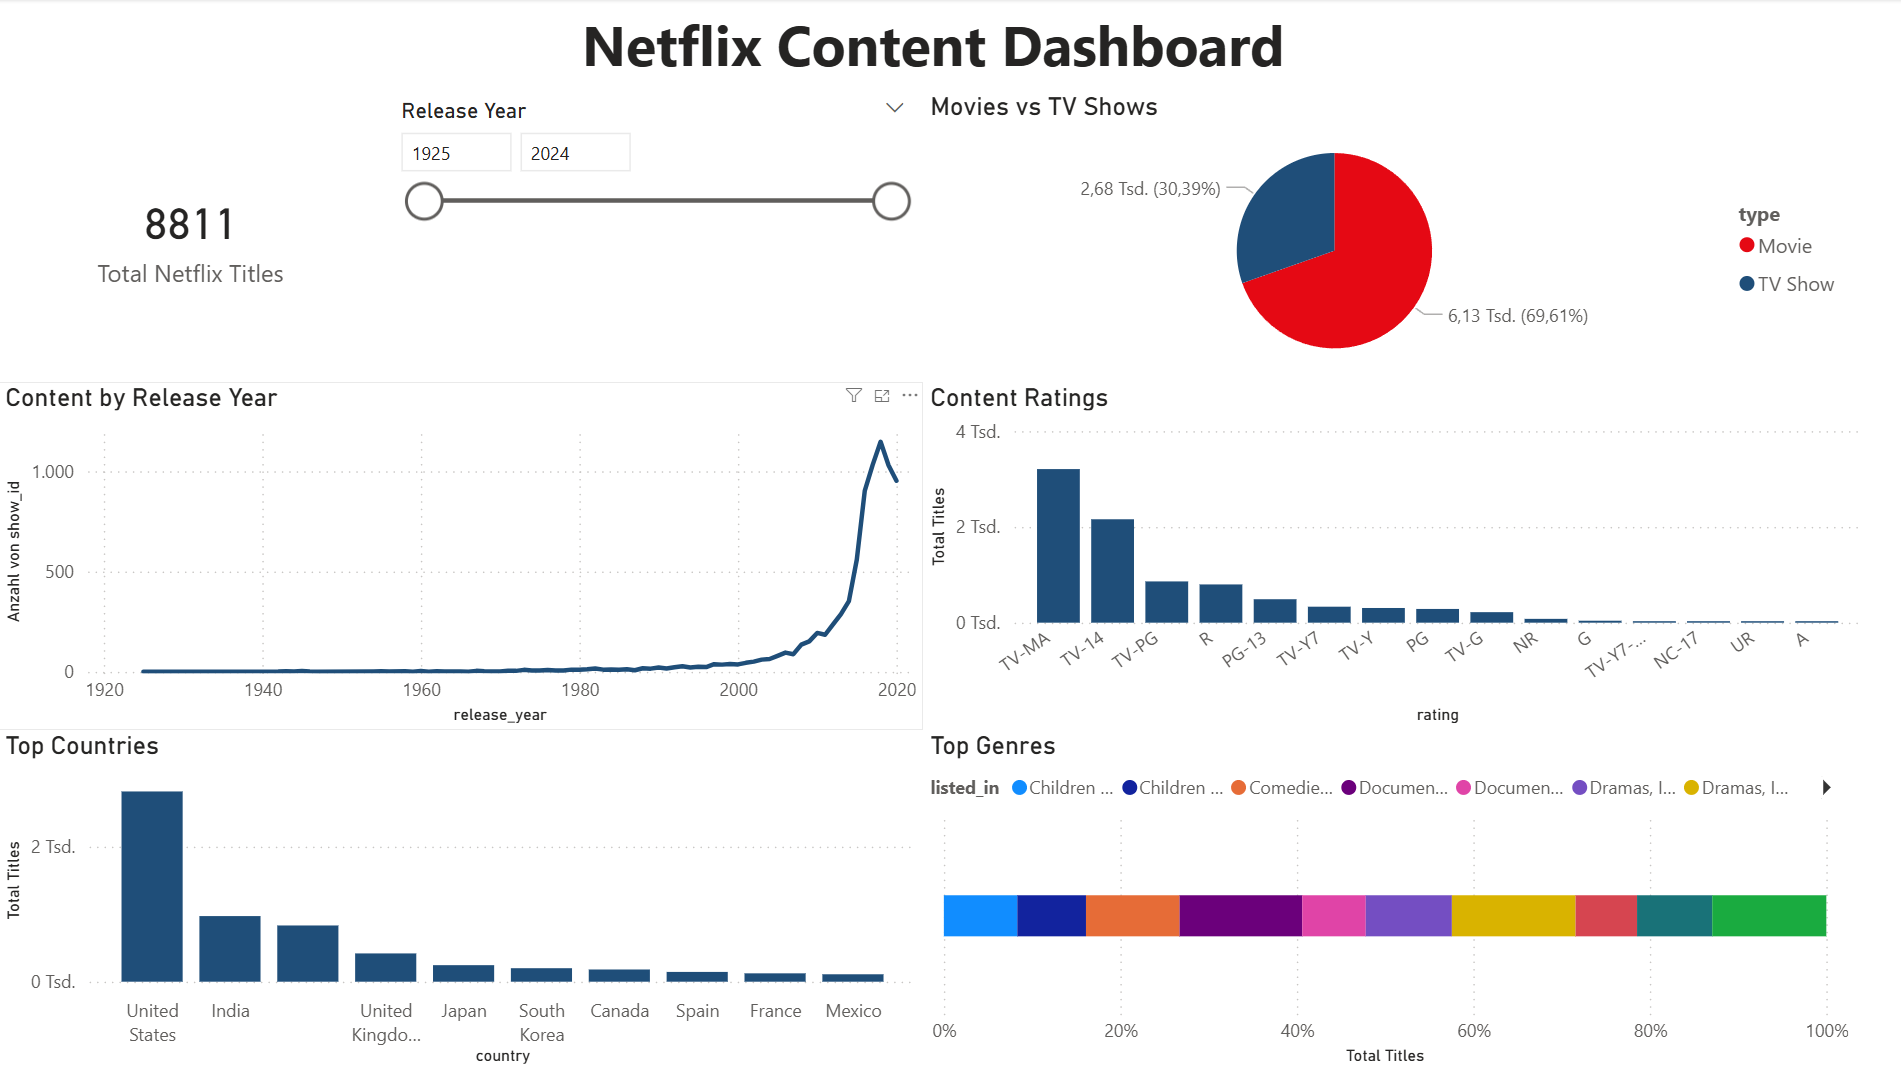

The dashboard page shown, as its layout file describes it:
{"tool":"powerbi","page":{"name":"Seite 1","canvas":[1280,720],"ordinal":0},"visuals":[{"type":"card","fields":{"Values":["Count(netflix_titles.show_id)"]},"box":[0,61.8,621.1,195.4],"z":0},{"type":"pieChart","title":"Movies vs TV Shows","fields":{"Category":["netflix_titles.type"],"Y":["CountNonNull(netflix_titles.show_id)"]},"box":[621.1,61.8,626.3,195.4],"z":1000},{"type":"lineChart","title":"Content by Release Year","fields":{"Category":["netflix_titles.release_year"],"Y":["CountNonNull(netflix_titles.show_id)"]},"box":[0,257.2,621.1,233.6],"z":1001},{"type":"clusteredColumnChart","title":"Content Ratings","fields":{"Category":["netflix_titles.rating"],"Y":["netflix_titles.Total Titles"]},"box":[621.1,257.2,634.2,233.6],"z":1002},{"type":"clusteredColumnChart","title":"Top Countries","fields":{"Category":["netflix_titles.country"],"Y":["netflix_titles.Total Titles"]},"box":[0,490.8,621.1,228.9],"z":1003},{"type":"hundredPercentStackedBarChart","title":"Top Genres","fields":{"Series":["netflix_titles.listed_in"],"Y":["netflix_titles.Total Titles"]},"box":[621.1,490.8,626.3,228.9],"z":1004},{"type":"textbox","box":[0,0,1255.3,61.8],"z":1005}]}

Visuals, with their boxes in screenshot pixels (x1, y1, x2, y2), scaled from the page's 1280x720 canvas onto the 1901x1071 screenshot:
card - Count(netflix_titles.show_id): x1=0, y1=92, x2=922, y2=383
"Movies vs TV Shows" pieChart: x1=922, y1=92, x2=1853, y2=383
"Content by Release Year" lineChart: x1=0, y1=383, x2=922, y2=730
"Content Ratings" clusteredColumnChart: x1=922, y1=383, x2=1864, y2=730
"Top Countries" clusteredColumnChart: x1=0, y1=730, x2=922, y2=1070
"Top Genres" hundredPercentStackedBarChart: x1=922, y1=730, x2=1853, y2=1070
textbox: x1=0, y1=0, x2=1864, y2=92
